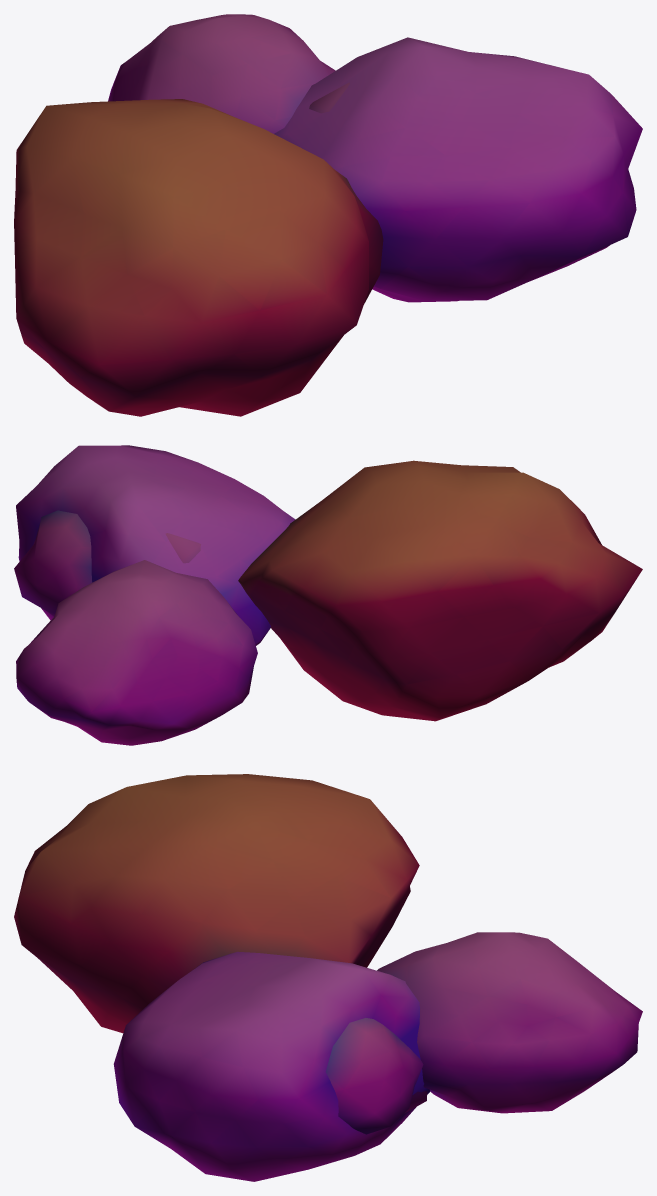
The model's file is veg_rock_d.glb.
The picture shows the model from 3 angles, top to bottom: view 1: azimuth 30°, elevation 25°; view 2: azimuth 150°, elevation 25°; view 3: azimuth 270°, elevation 25°; orthographic projection. The views are drawn at different scales.
Parts seen in each view (by area): view 1: veg_rock_d_LOD0; view 2: veg_rock_d_LOD0; view 3: veg_rock_d_LOD0.
Part boxes in pixels (bbox=[...]): veg_rock_d_LOD0: bbox=[14, 14, 642, 416]; veg_rock_d_LOD0: bbox=[14, 445, 642, 745]; veg_rock_d_LOD0: bbox=[14, 774, 642, 1181].
Size of what is drawn, in the model's own units: 0.5479 by 0.2139 by 0.5163.
